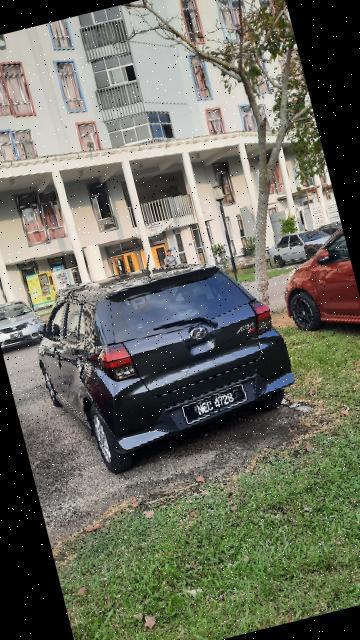License_Plate: (179, 382, 258, 427)
car: (25, 246, 307, 477), (266, 222, 360, 349), (1, 288, 54, 355)
